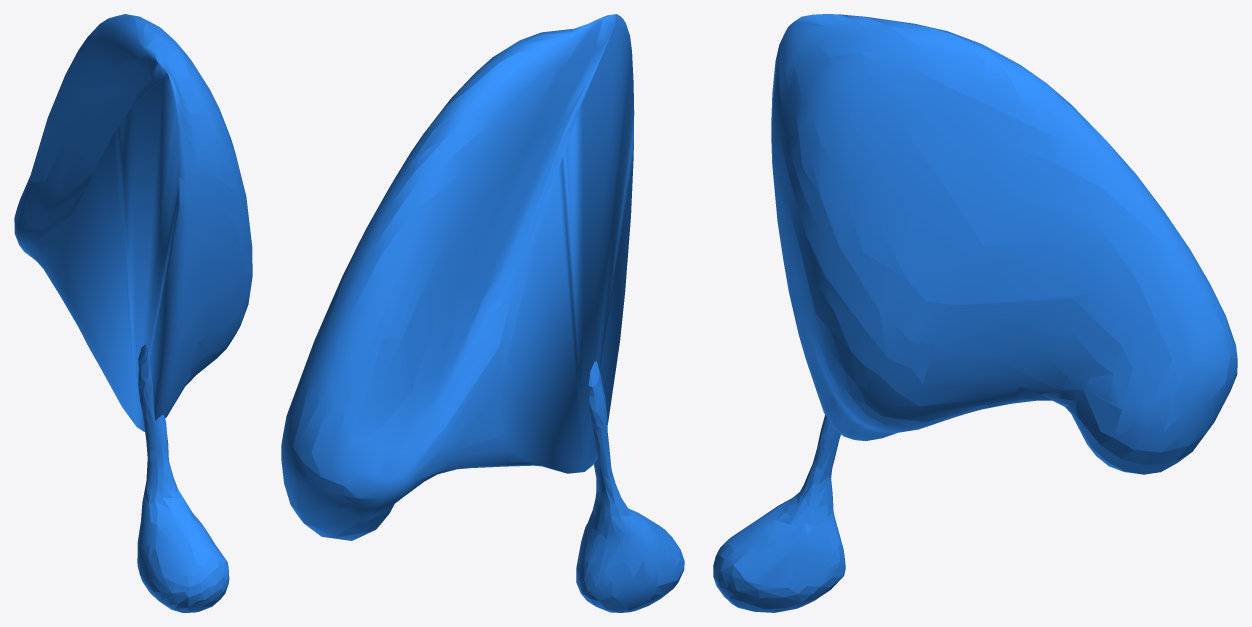
The model's file is blueOPT.fbx.
3 renders of one model, left to right at view 1: azimuth 30°, elevation 25°; view 2: azimuth 150°, elevation 25°; view 3: azimuth 270°, elevation 25°, orthographic. The views are drawn at different scales.
Visible parts, largest first — view 1: Cube.004; view 2: Cube.004; view 3: Cube.004.
Boxes of the visible parts, <box> form: Cube.004: <box>14,14,252,612</box>; Cube.004: <box>281,14,684,612</box>; Cube.004: <box>713,14,1237,612</box>.
Bounding box in the file's own units: 126 × 388 × 310.
